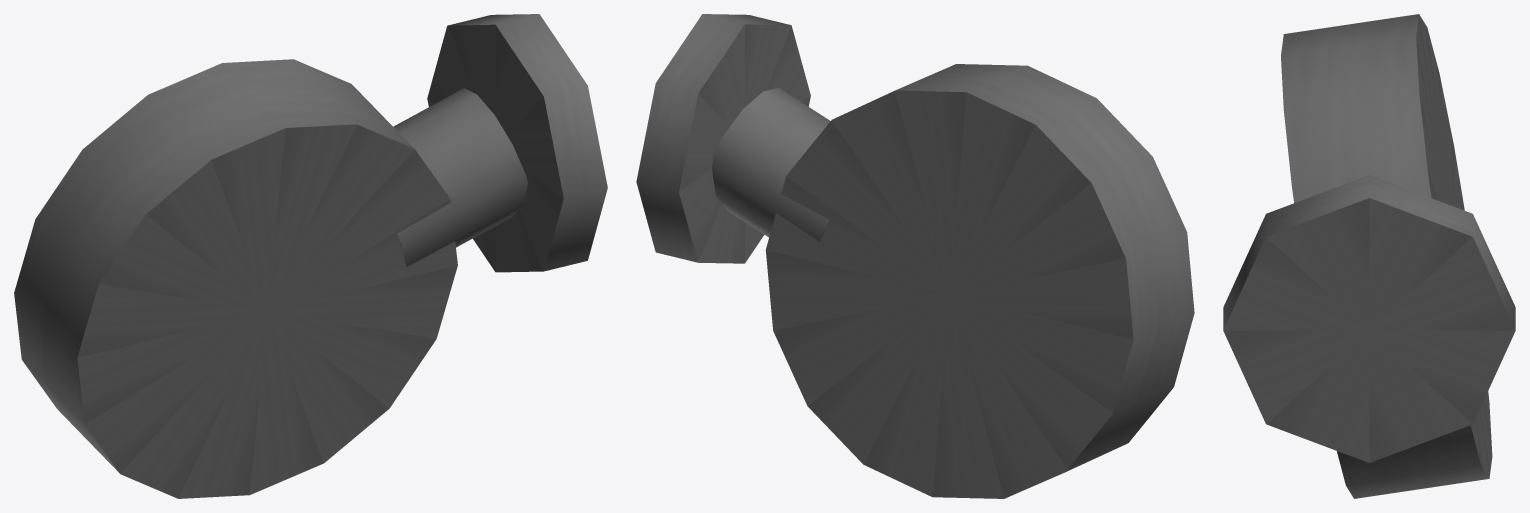
Rendered from mastarmcurve_6x2_c6_east.obj.
The picture shows the model from 3 angles, left to right: view 1: azimuth 30°, elevation 25°; view 2: azimuth 150°, elevation 25°; view 3: azimuth 270°, elevation 25°; orthographic projection. The views are drawn at different scales.
Visible parts, largest first — view 1: mastarm_6x2_c6_east; view 2: mastarm_6x2_c6_east; view 3: mastarm_6x2_c6_east.
Boxes of the visible parts, x1=… form: mastarm_6x2_c6_east: x1=14, y1=14, x2=607, y2=498; mastarm_6x2_c6_east: x1=636, y1=14, x2=1194, y2=498; mastarm_6x2_c6_east: x1=1223, y1=14, x2=1515, y2=498.
Bounding box in the file's own units: 0.821 × 0.6651 × 0.4.
